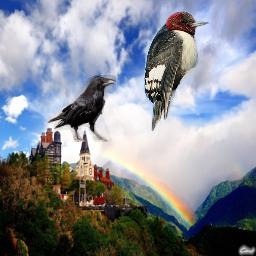Crow: (46, 75, 116, 142)
Woodpecker: (144, 11, 210, 131)
